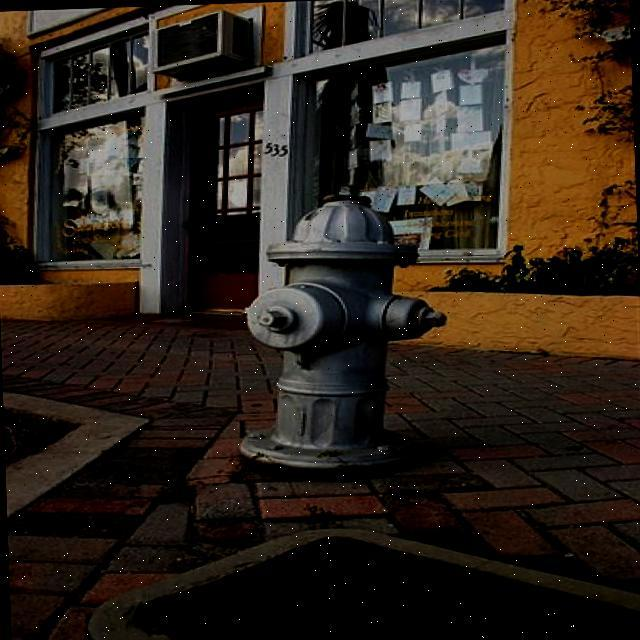fire_hydrant: (229, 180, 448, 482)
